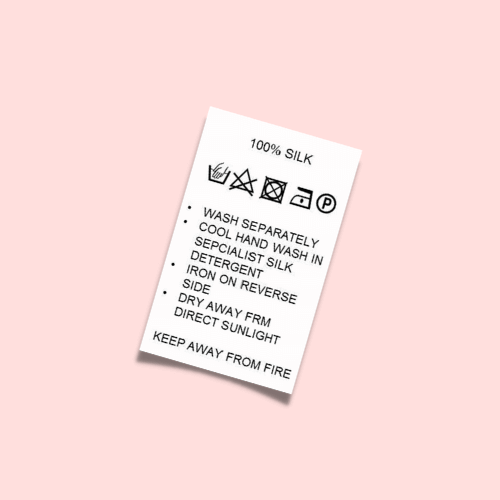ER_dry_clean_chemical: (315, 191, 338, 216)
ER_hand_wash: (203, 157, 236, 190)
ER_iron_low_temp: (286, 182, 316, 216)
ER_no_bleach: (225, 165, 258, 198)
ER_no_tumble_dry: (256, 173, 292, 209)
